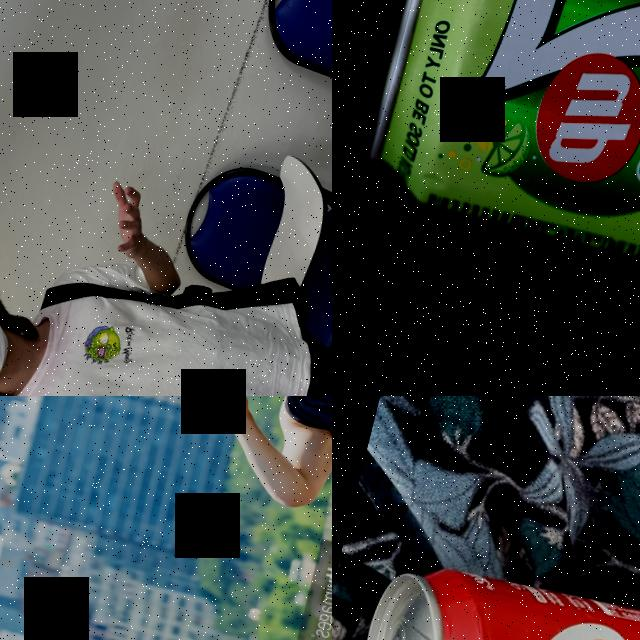bottle: (191, 396, 244, 437)
can: (354, 0, 640, 292), (340, 545, 640, 640)
